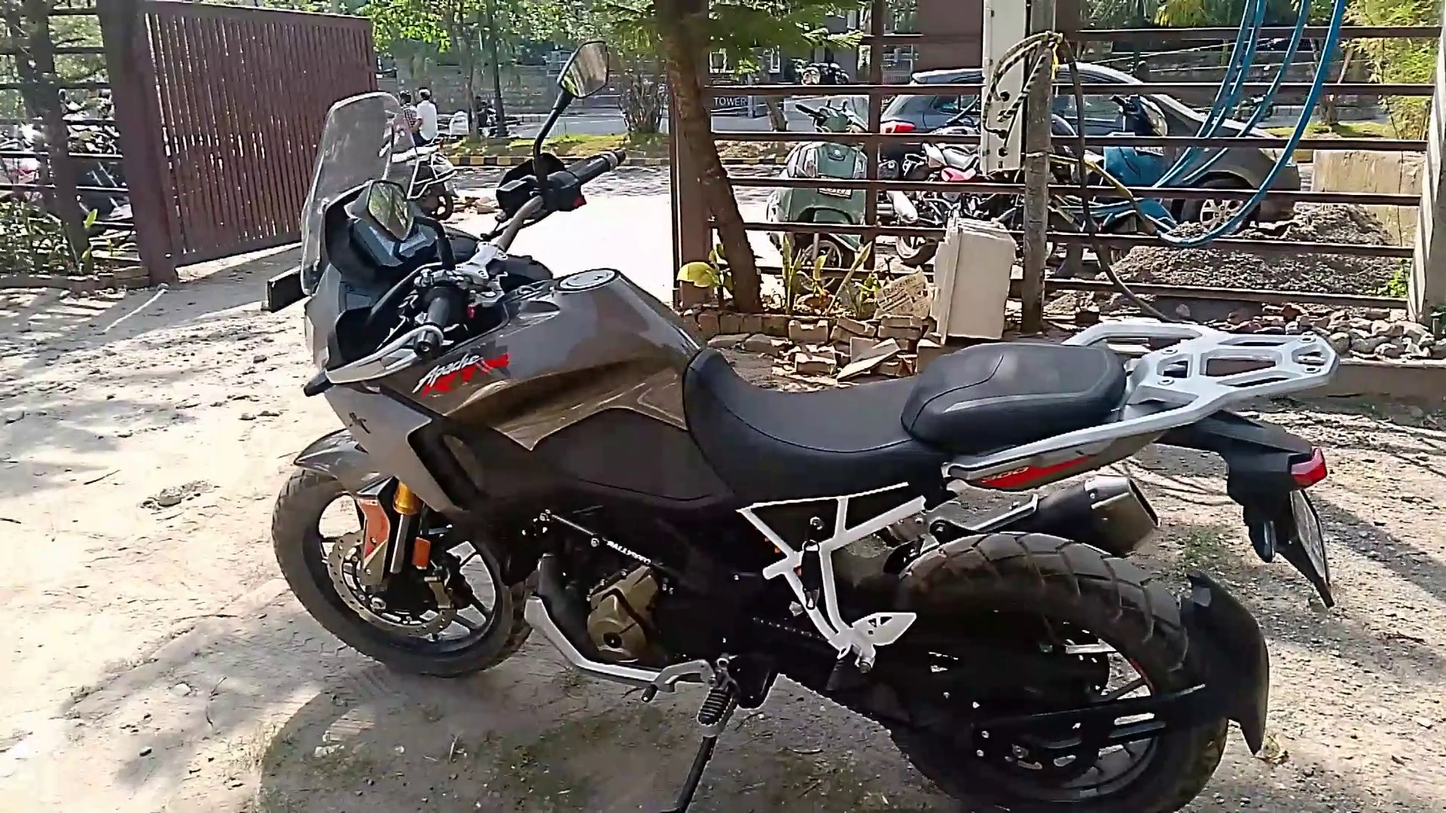engine-casing-left: (576, 564, 658, 661)
side-stand: (666, 739, 721, 812)
